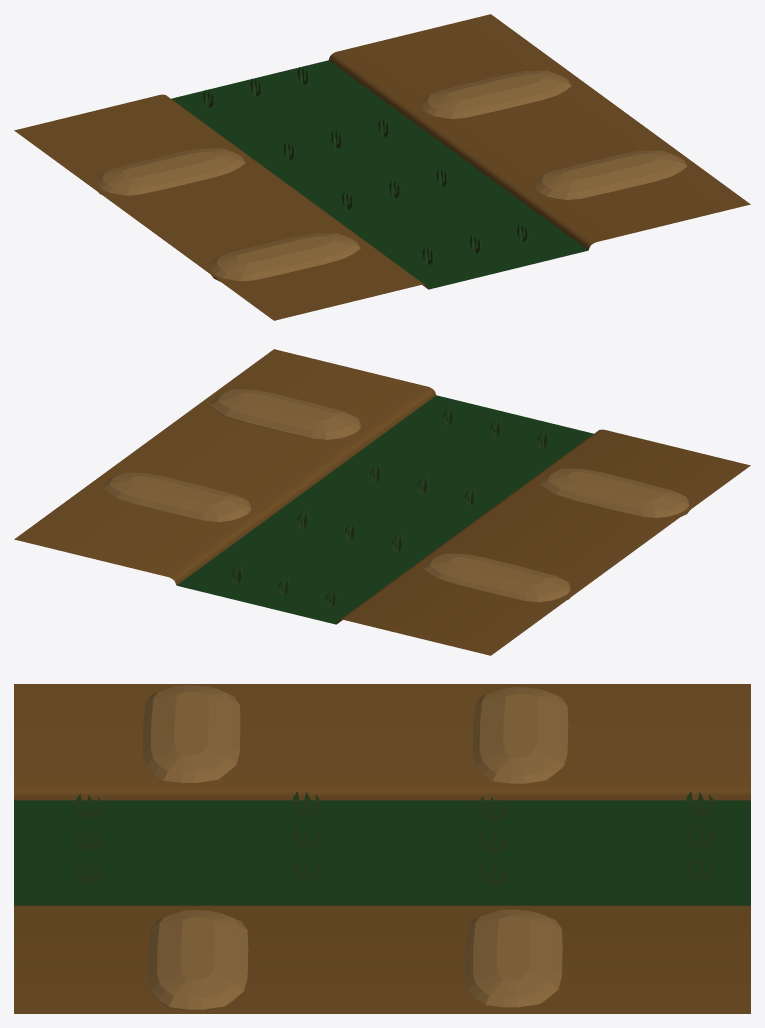
File: cenario5.glb
The picture shows the model from 3 angles, top to bottom: view 1: azimuth 30°, elevation 25°; view 2: azimuth 150°, elevation 25°; view 3: azimuth 270°, elevation 25°; orthographic projection. The views are drawn at different scales.
Parts seen in each view (by area): view 1: Plane002, Line003, Line007, Line002, Line006; view 2: Plane002, Line003, Line007, Line002, Line006; view 3: Plane002, Line003, Line002, Line007, Line006.
Boxes of the visible parts, bbox=[...] form: Plane002: bbox=[14, 14, 750, 320]; Line003: bbox=[534, 150, 687, 200]; Line007: bbox=[210, 233, 360, 281]; Line002: bbox=[421, 70, 571, 118]; Line006: bbox=[97, 148, 245, 195]; Plane002: bbox=[14, 349, 750, 655]; Line003: bbox=[210, 389, 360, 440]; Line007: bbox=[540, 468, 689, 517]; Line002: bbox=[102, 472, 251, 521]; Line006: bbox=[424, 553, 570, 602]; Plane002: bbox=[14, 684, 750, 1013]; Line003: bbox=[147, 910, 248, 1010]; Line002: bbox=[464, 909, 562, 1007]; Line007: bbox=[142, 685, 240, 782]; Line006: bbox=[472, 687, 568, 783].
Size of the model in its own units: 153 by 5.9 by 145.
